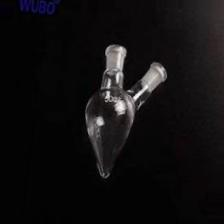Pear shaped flask: (78, 36, 168, 178)
